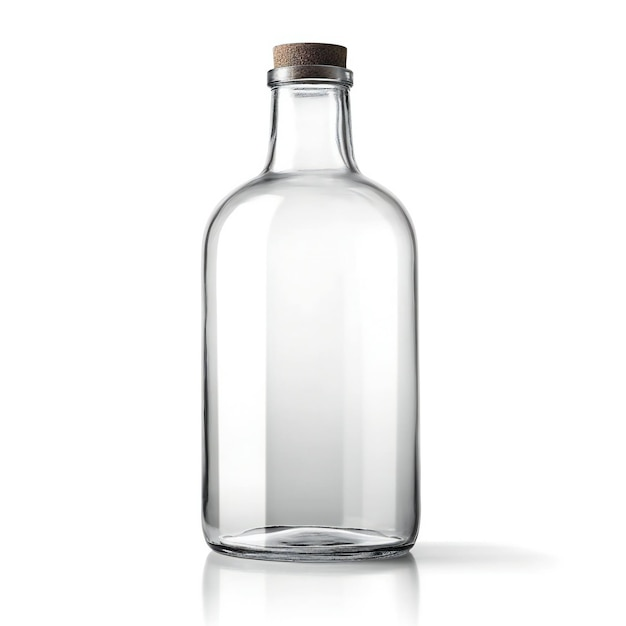glass_bottle: (185, 30, 436, 577)
